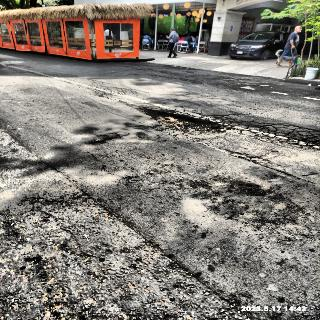alligator-crack: (227, 110, 320, 147), (42, 72, 138, 100), (185, 109, 224, 116), (152, 102, 196, 108), (200, 116, 224, 120)
crack: (10, 133, 147, 242), (218, 147, 295, 178), (82, 101, 133, 122)
pothole: (136, 101, 225, 136)
